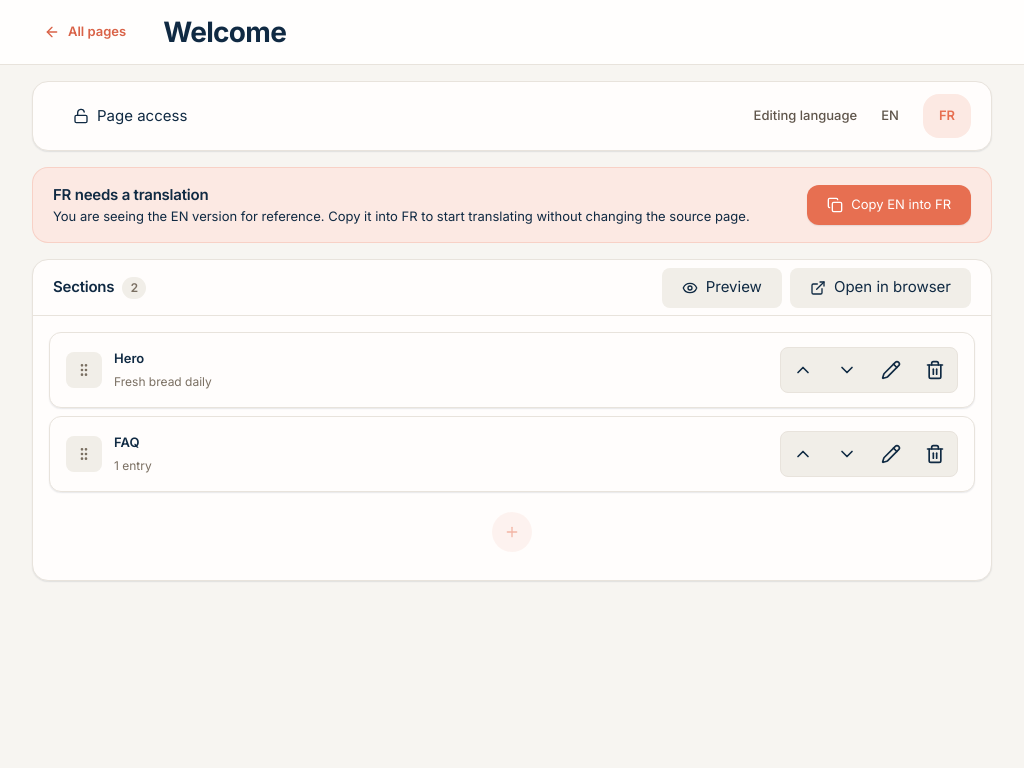
manual page translation › a missing language is read-only until the owner copies the visible fallback
What coordinates should you click on to do the following:
click the button "Copy EN into FR"
I would click on:
 (889, 205)
Its box is [807,185,971,225].
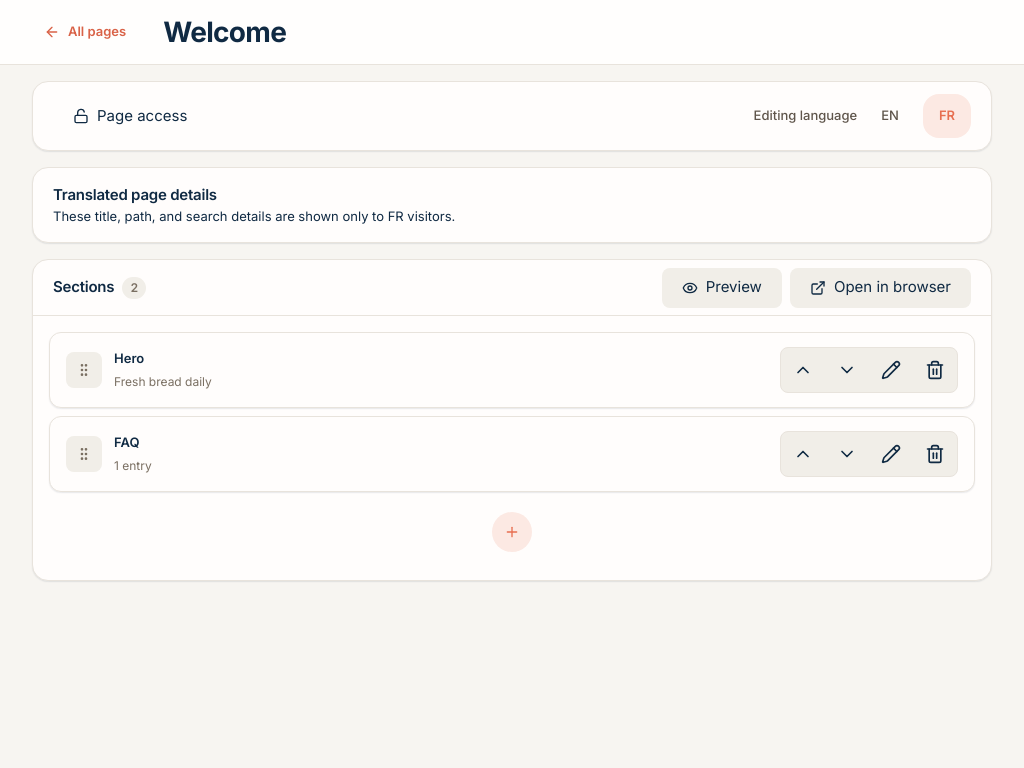
Check: the heading "Translated page details" is shown, box [53,185,217,204]
